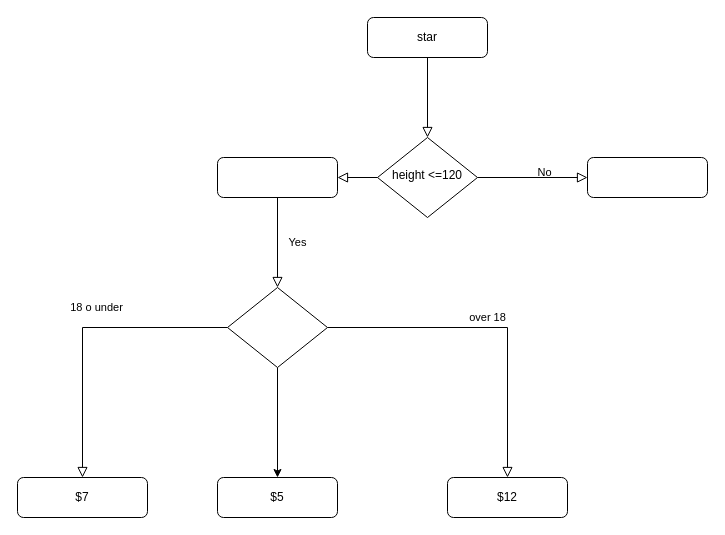
The diagram is 725 pixels wide and 535 high, and some of its shapes have lost their labels. Each missing label, with the centre of its shape:
"age" goes at (277,327).
"can ride" goes at (277,177).
"can't ride" goes at (647,177).
